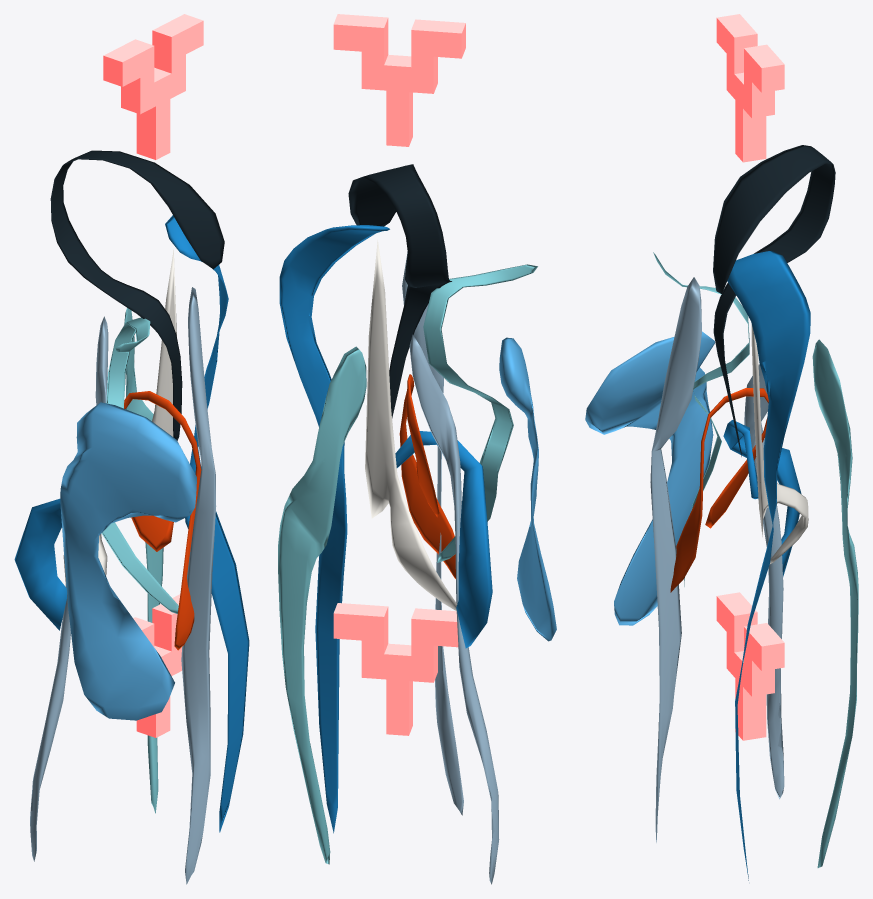
File: YTower_v3.gltf
3 renders of one model, left to right at view 1: azimuth 30°, elevation 25°; view 2: azimuth 150°, elevation 25°; view 3: azimuth 270°, elevation 25°, orthographic.
Visible parts, largest first — view 1: Plane.006, Plane.001, Plane.007, Y.001, Plane.002, Plane.004, Plane.009, Plane, Plane.005, Y, Plane.003, Plane.008; view 2: Plane.003, Plane.002, Plane.007, Plane.008, Y.001, Y, Plane, Plane.004, Plane.009, Plane.006, Plane.005, Plane.001; view 3: Plane.006, Plane.002, Plane.007, Plane.001, Y.001, Plane.003, Y, Plane, Plane.005, Plane.008, Plane.004, Plane.009.
Part boxes in pixels (left/top/right/bottom): Plane.006: left=60, top=402, right=196, bottom=720; Plane.001: left=181, top=287, right=216, bottom=884; Plane.007: left=50, top=150, right=224, bottom=440; Y.001: left=103, top=14, right=203, bottom=159; Plane.002: left=165, top=215, right=249, bottom=832; Plane.004: left=14, top=498, right=66, bottom=630; Plane.009: left=101, top=317, right=178, bottom=613; Plane: left=30, top=316, right=108, bottom=861; Plane.005: left=124, top=391, right=201, bottom=650; Y: left=133, top=594, right=181, bottom=737; Plane.003: left=124, top=308, right=163, bottom=813; Plane.008: left=63, top=249, right=176, bottom=583; Plane.003: left=278, top=346, right=366, bottom=864; Plane.002: left=279, top=225, right=389, bottom=833; Plane.007: left=348, top=164, right=451, bottom=418; Plane.008: left=365, top=240, right=457, bottom=610; Y.001: left=333, top=14, right=465, bottom=146; Y: left=333, top=603, right=458, bottom=735; Plane: left=409, top=334, right=499, bottom=884; Plane.004: left=395, top=431, right=492, bottom=648; Plane.009: left=423, top=264, right=537, bottom=562; Plane.006: left=499, top=337, right=556, bottom=641; Plane.005: left=399, top=374, right=455, bottom=578; Plane.001: left=402, top=251, right=463, bottom=815; Plane.006: left=585, top=331, right=714, bottom=625; Plane.002: left=727, top=251, right=810, bottom=880; Plane.007: left=713, top=145, right=835, bottom=456; Plane.001: left=650, top=277, right=701, bottom=842; Y.001: left=716, top=14, right=784, bottom=162; Plane.003: left=812, top=339, right=858, bottom=867; Y: left=716, top=592, right=784, bottom=740; Plane: left=744, top=364, right=784, bottom=799; Plane.005: left=670, top=388, right=768, bottom=592; Plane.008: left=751, top=324, right=808, bottom=563; Plane.004: left=723, top=420, right=801, bottom=576; Plane.009: left=653, top=252, right=749, bottom=586.
Size of the model in its own units: 27.88 by 105 by 32.02.
Materials: 2 (1 with a texture image).
